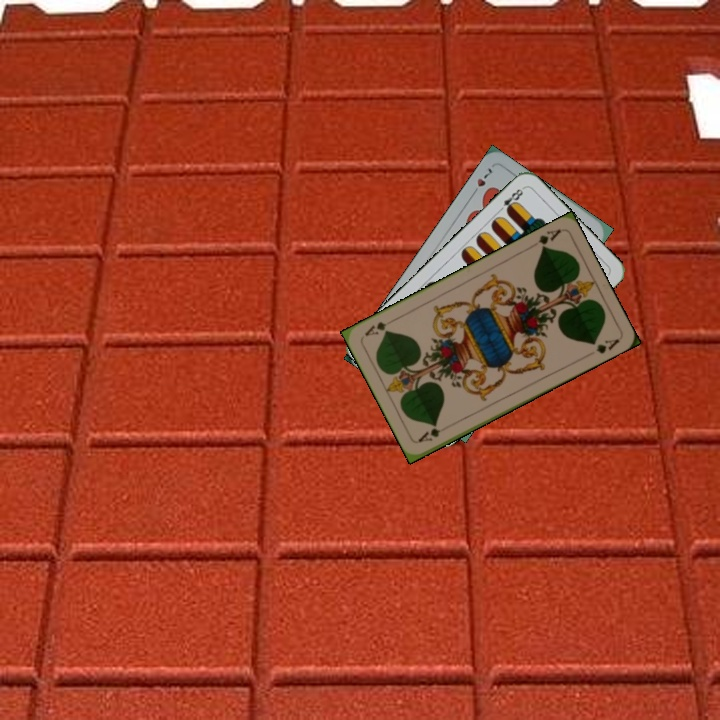E8: (494, 184, 527, 216)
GA: (534, 225, 563, 253), (414, 424, 443, 445)
H7: (467, 163, 495, 199)
